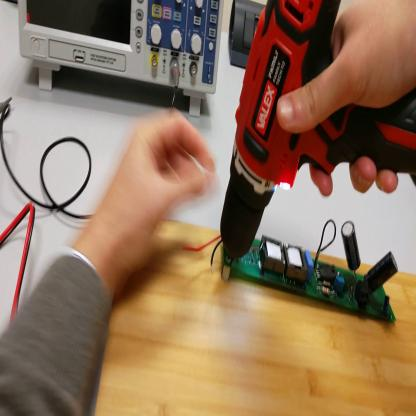electric screwdriver: (222, 2, 416, 262)
hand: (276, 1, 414, 208), (104, 111, 215, 268)
high voltage board: (178, 218, 402, 325)
oscilloscope: (17, 2, 223, 120)
oscilloscope probe tip: (1, 98, 13, 121)
working area: (80, 203, 416, 416)
